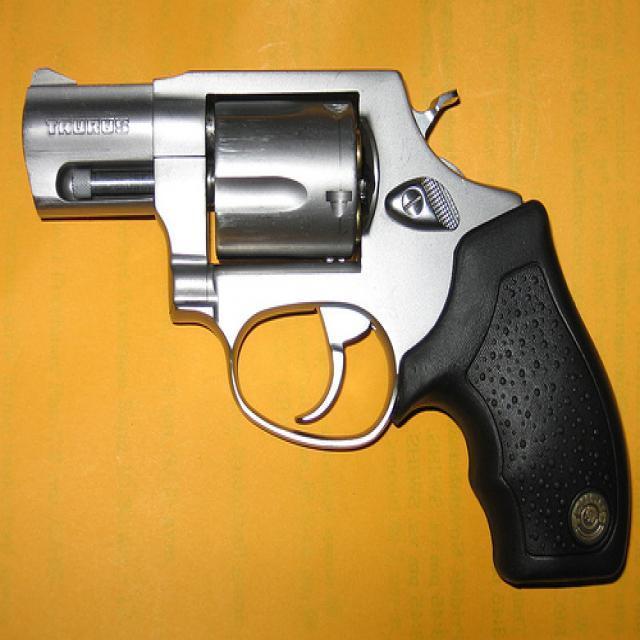weapon: (22, 65, 632, 587)
